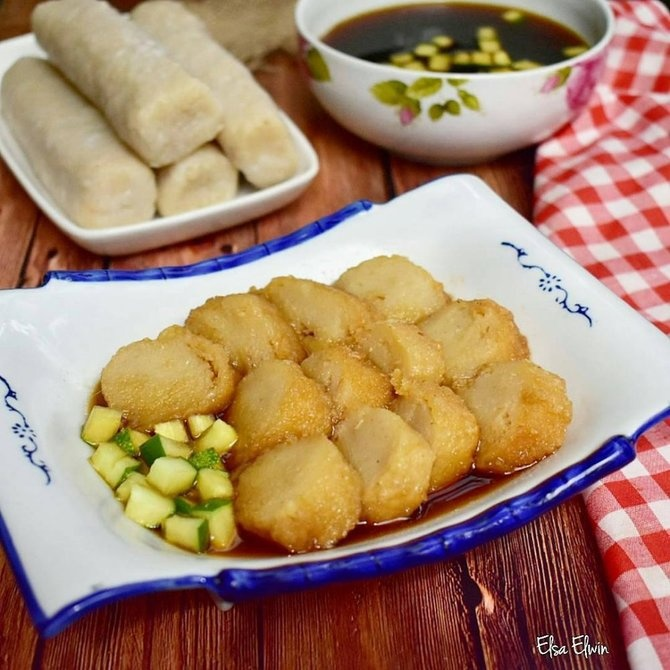pempek: (97, 255, 574, 548)
